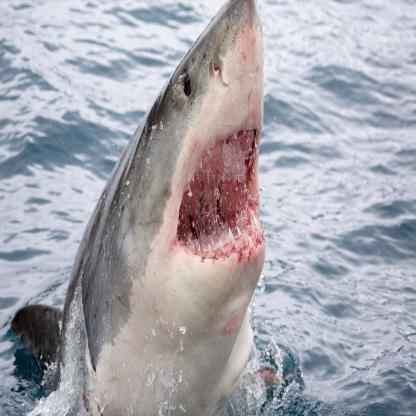white-shark: (10, 0, 289, 416)
